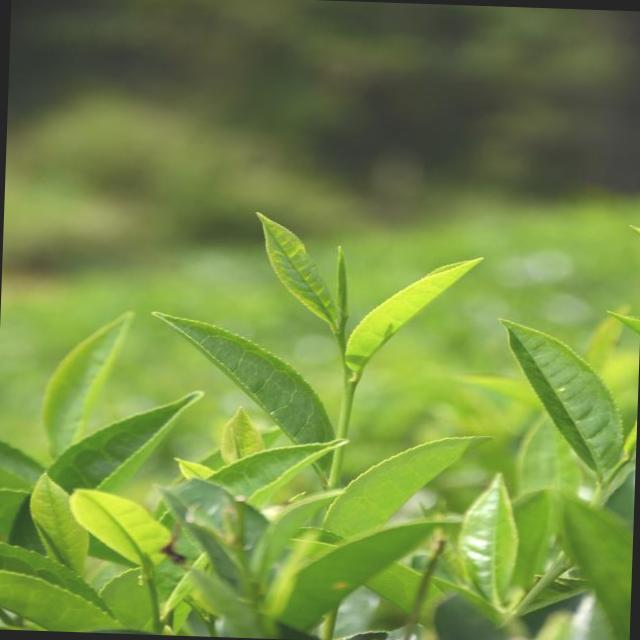Stem: (343, 379, 355, 393)
